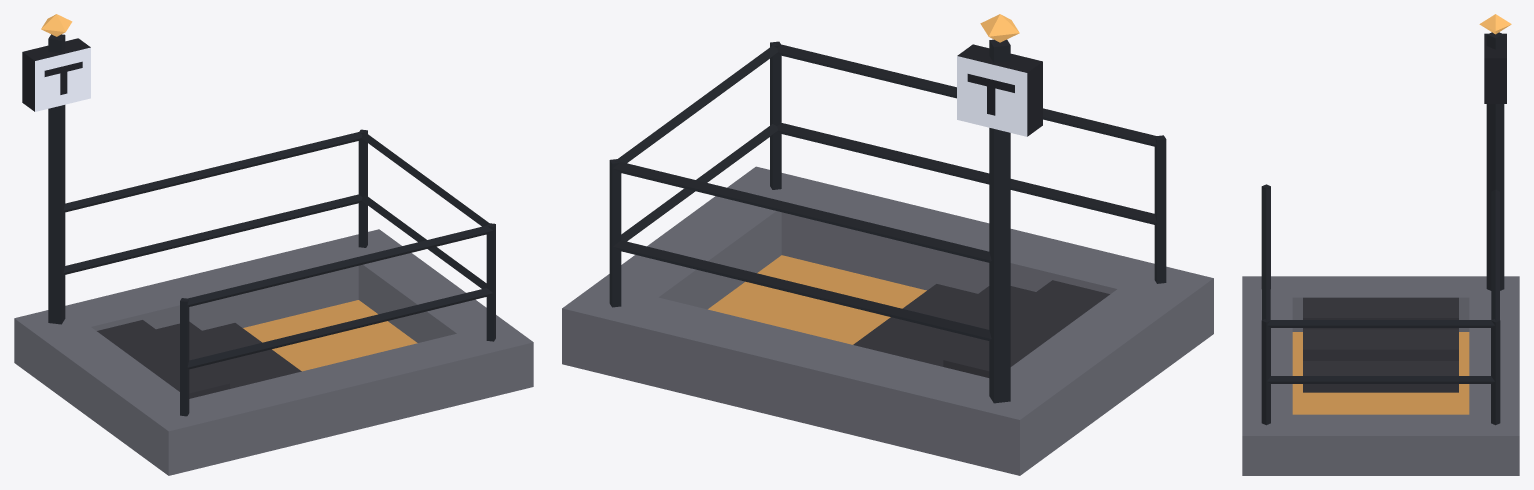
File: mc-subway_entrance.glb
The picture shows the model from 3 angles, left to right: view 1: azimuth 30°, elevation 25°; view 2: azimuth 150°, elevation 25°; view 3: azimuth 270°, elevation 25°; orthographic projection. The views are drawn at different scales.
Visible parts, largest first — view 1: prop_subway_entrance; view 2: prop_subway_entrance; view 3: prop_subway_entrance.
Boxes of the visible parts, <box> form: prop_subway_entrance: <box>14,14,533,475</box>; prop_subway_entrance: <box>562,14,1213,475</box>; prop_subway_entrance: <box>1242,14,1519,475</box>.
Size of the model in its own units: 3 by 2.76 by 2.2.
1 material, 1 textured.
